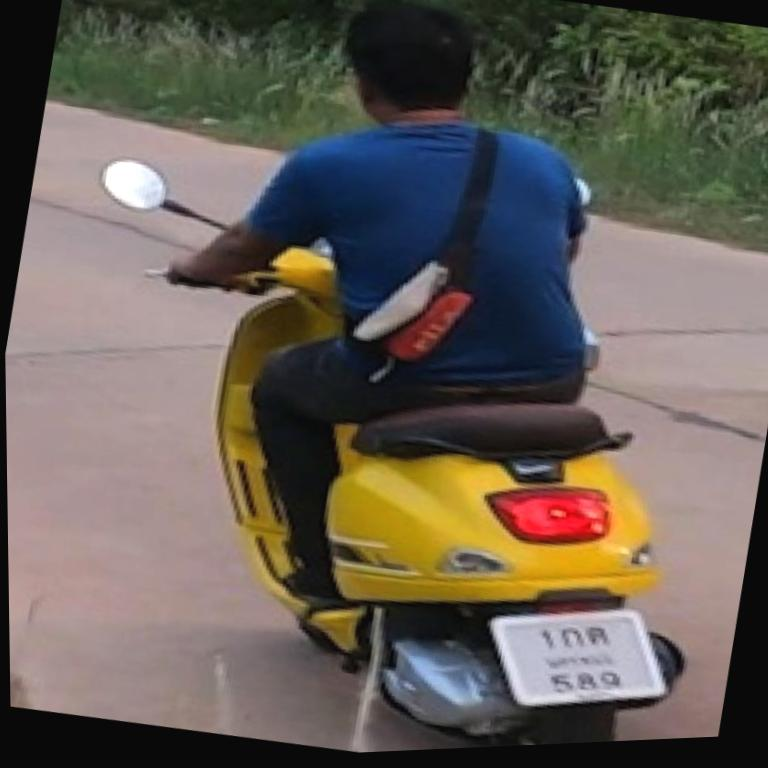license plate: (490, 609, 666, 704)
